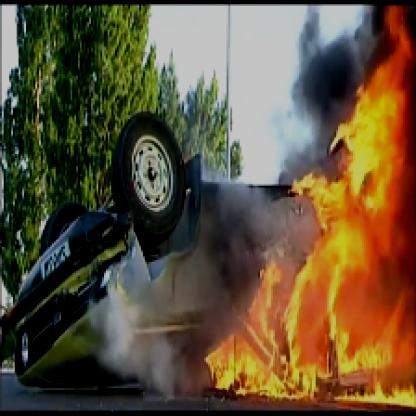Fire: (204, 7, 414, 408)
